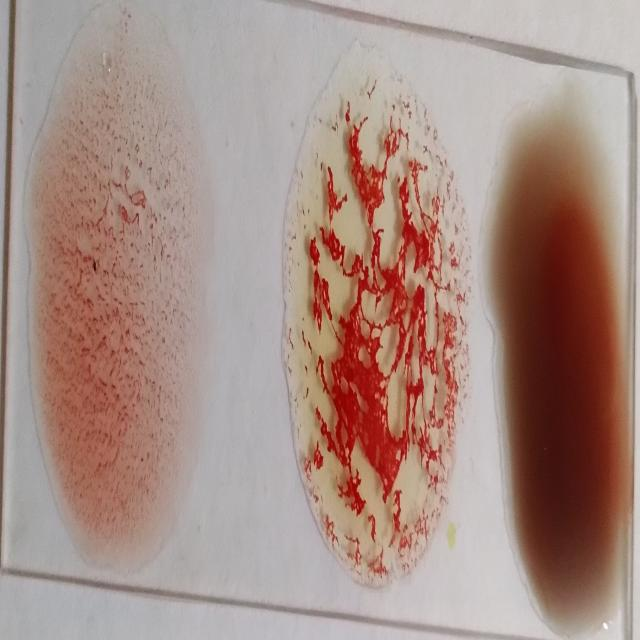B: (286, 38, 465, 584)
D: (39, 41, 200, 547)
